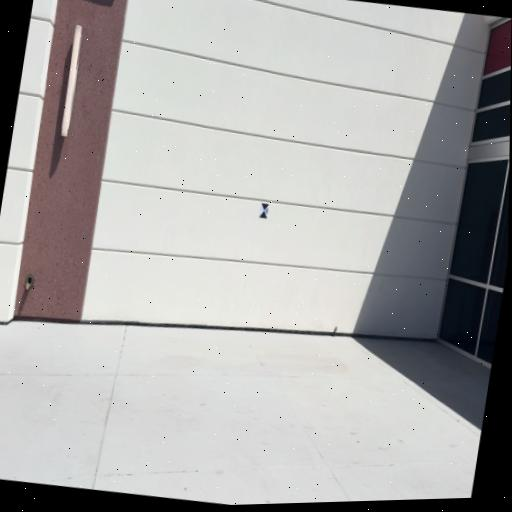target4: (259, 202, 270, 221)
